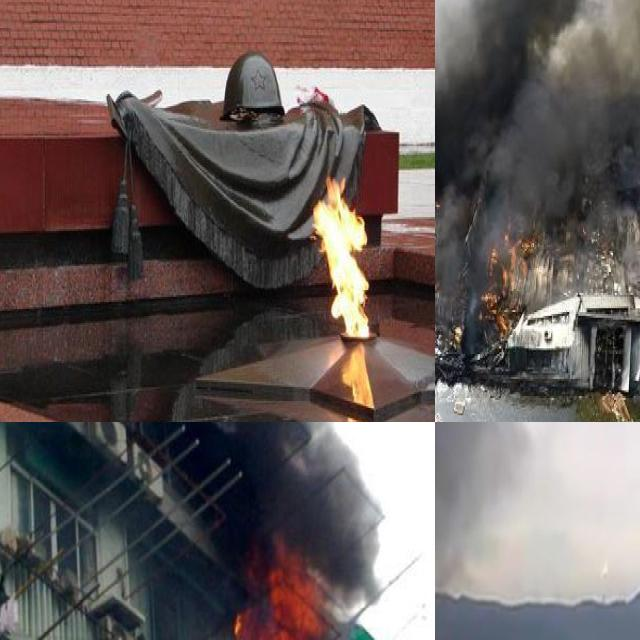fire: (309, 170, 372, 338), (233, 549, 334, 640), (483, 226, 534, 325)
smoke: (435, 0, 640, 306), (250, 432, 384, 587), (435, 422, 523, 640)
